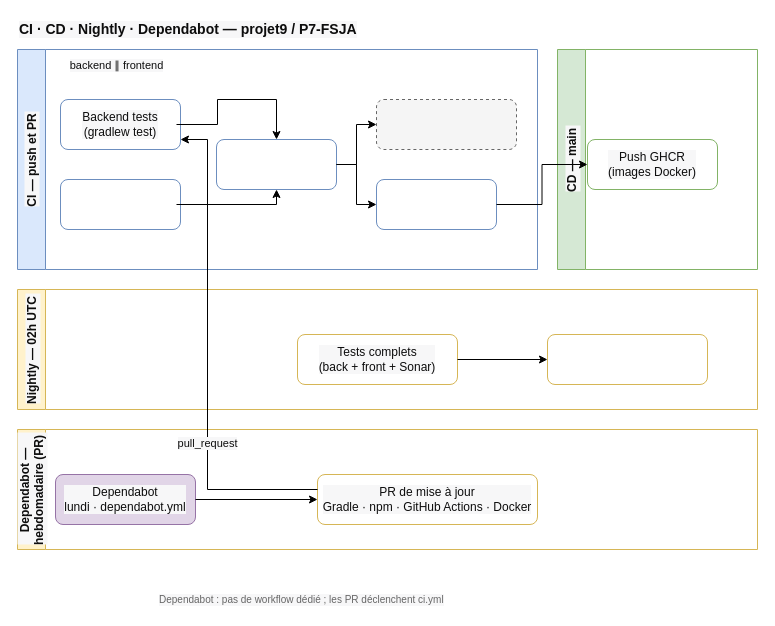
Some shapes in this 775 by 626 pixel diagram are drawn without their labels. The shapes that lost their labels are listed below. From the top down, each one's centre as x and y in pixels, then its label:
point 446,124: Index événements CI (OpenSearch, optionnel)
point 276,164: SonarCloud (analyse qualité)
point 120,204: Frontend tests (npm test:ci)
point 436,204: Docker build (compose build)
point 627,359: Smoke Docker (compose up + curl)
